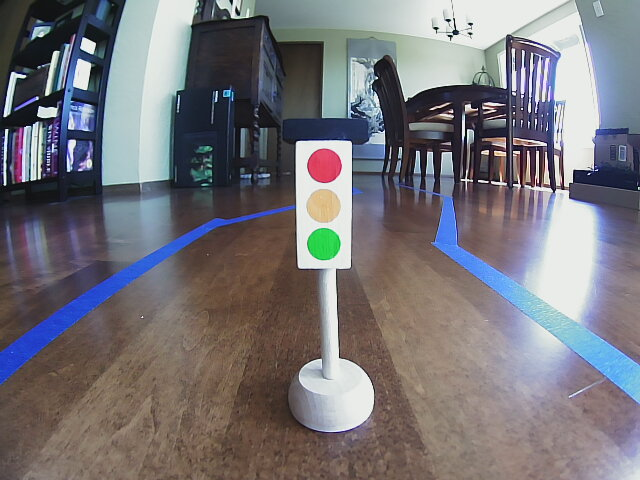TrafficLight: (287, 118, 360, 268)
